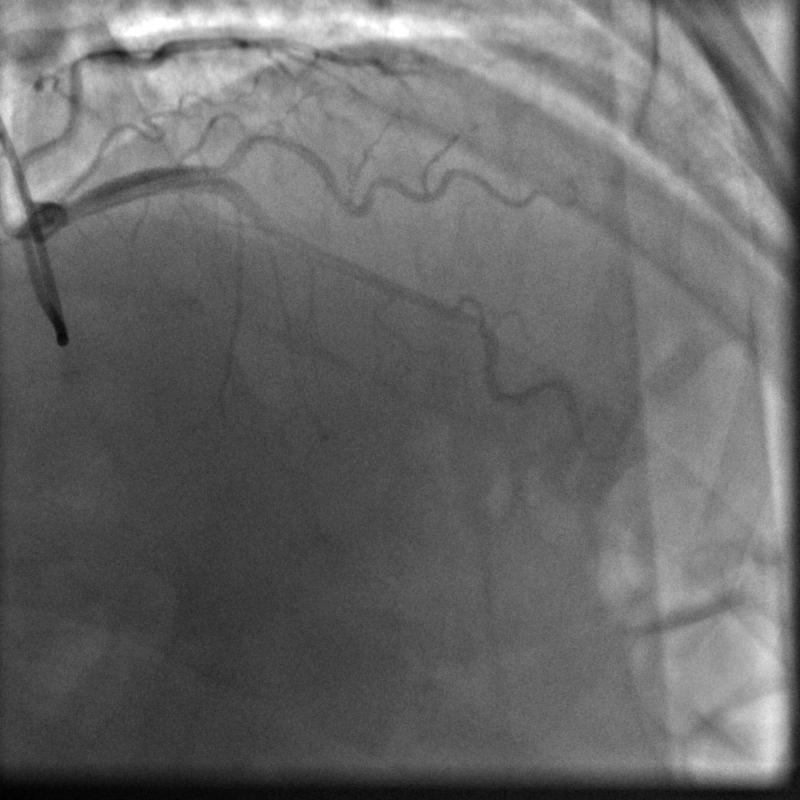Stenosis: (435, 289, 497, 338)
